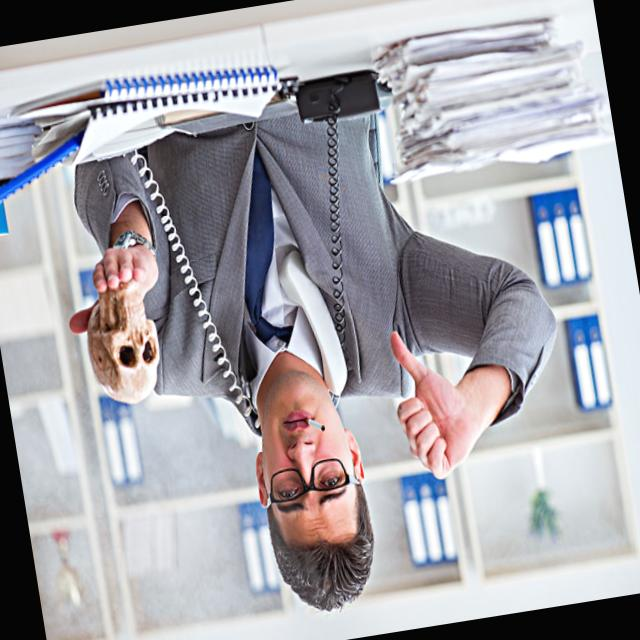cigarette: (306, 412, 331, 437)
